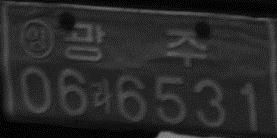0: (19, 66, 51, 115)
1: (232, 79, 266, 131)
3: (191, 78, 225, 127)
5: (154, 74, 187, 125)
6: (115, 73, 148, 122), (56, 68, 88, 118)
광주_D: (62, 22, 206, 67)
라: (89, 78, 113, 115)
영: (19, 18, 54, 60)
